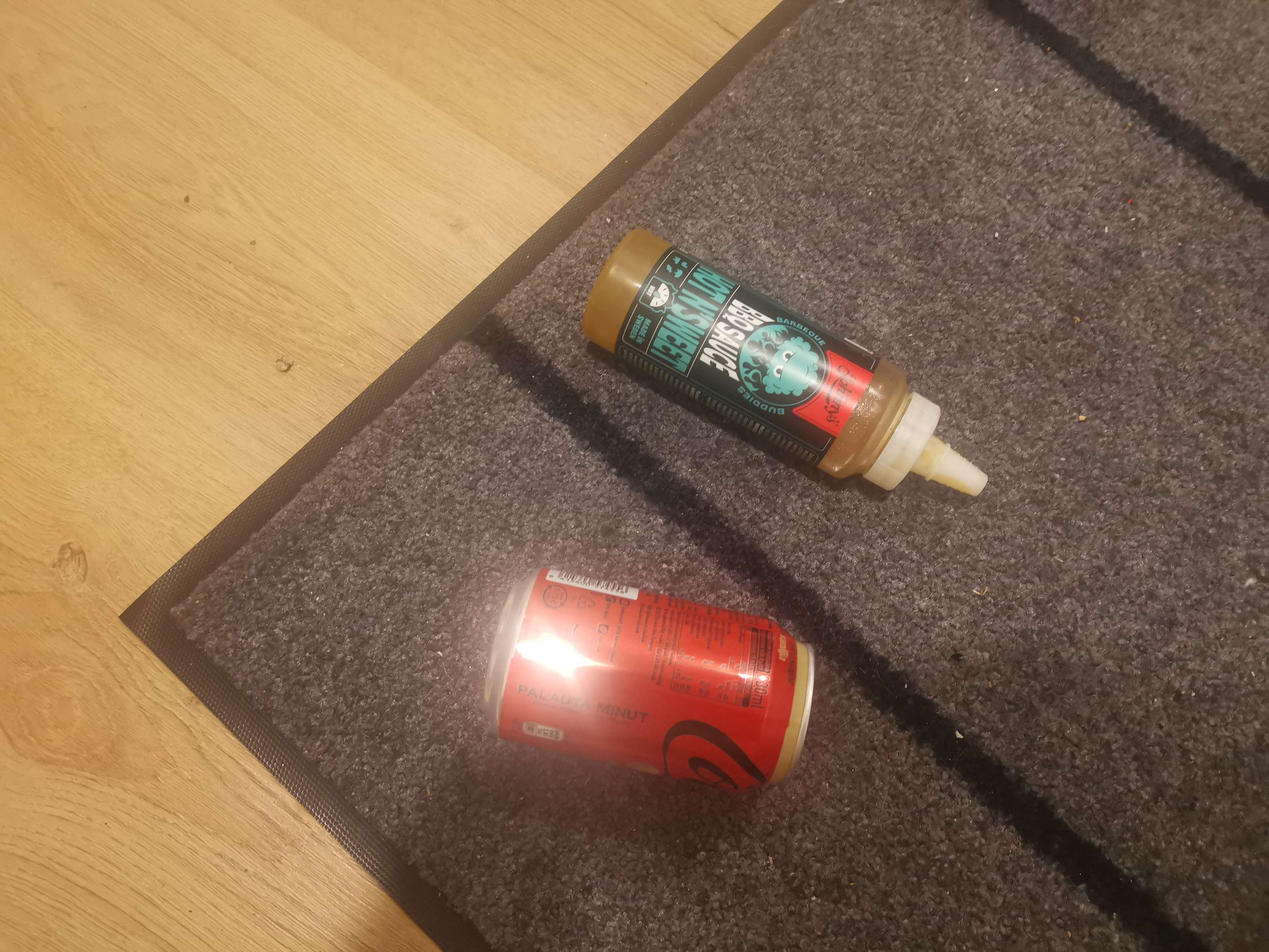Pantburk: (481, 565, 816, 795)
